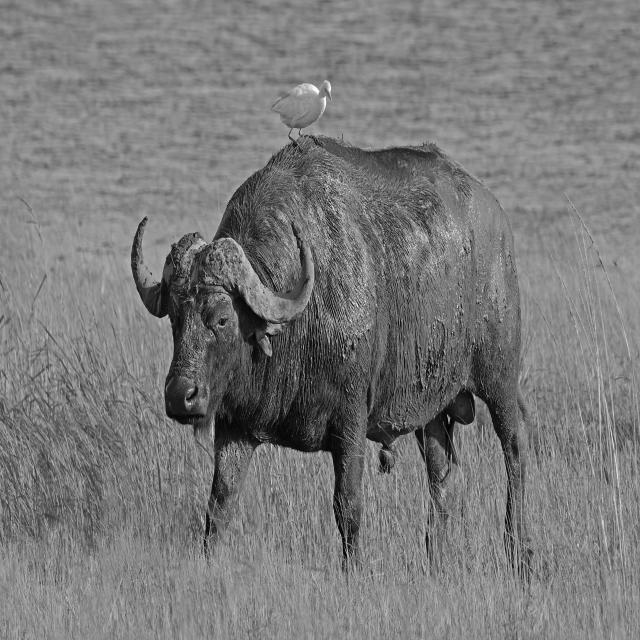Buffalo: (131, 133, 538, 592)
